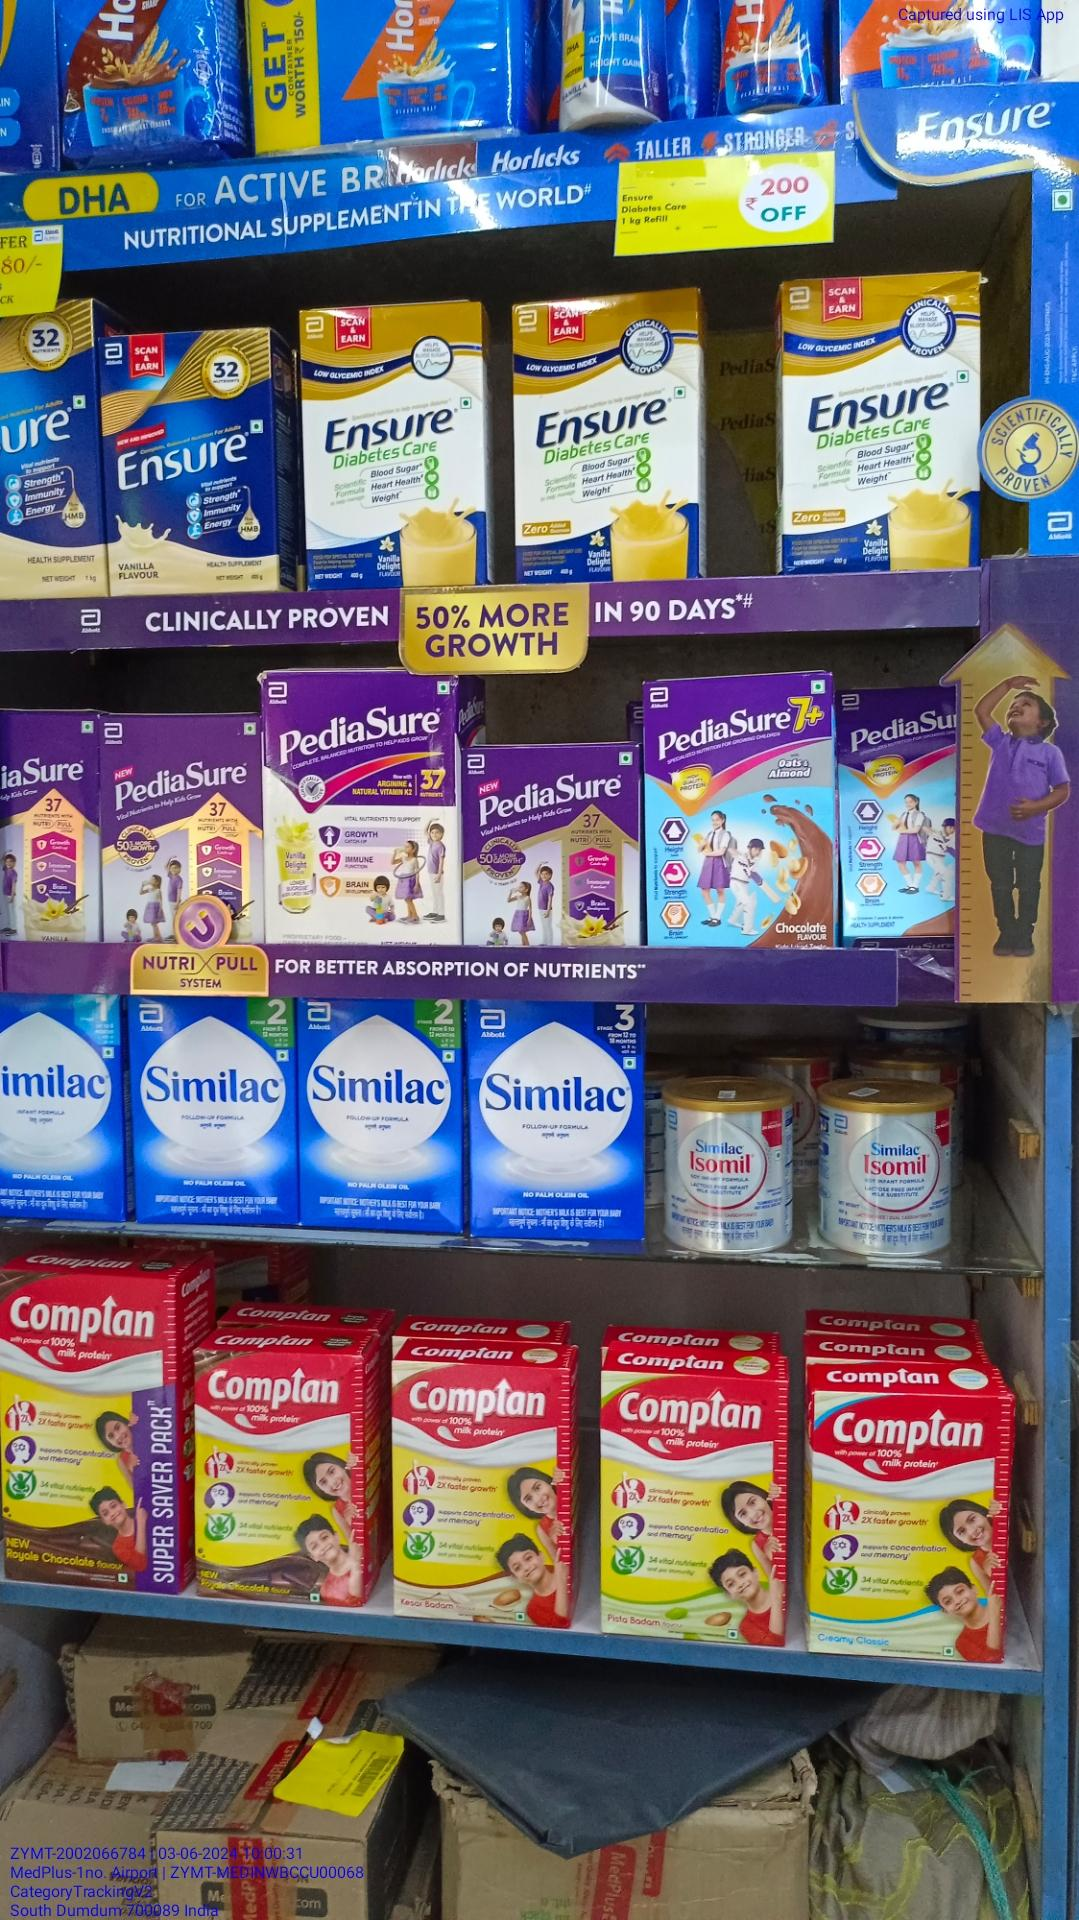ENSURE_VANILLA_400_G_PACK: (104, 327, 282, 596)
